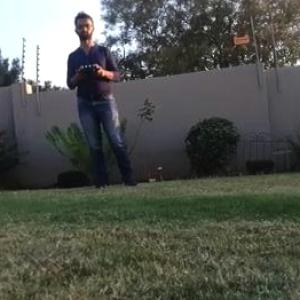follow: (64, 2, 144, 192)
